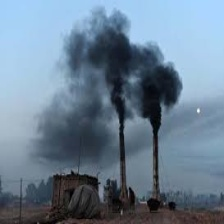smoke: (52, 20, 189, 126)
